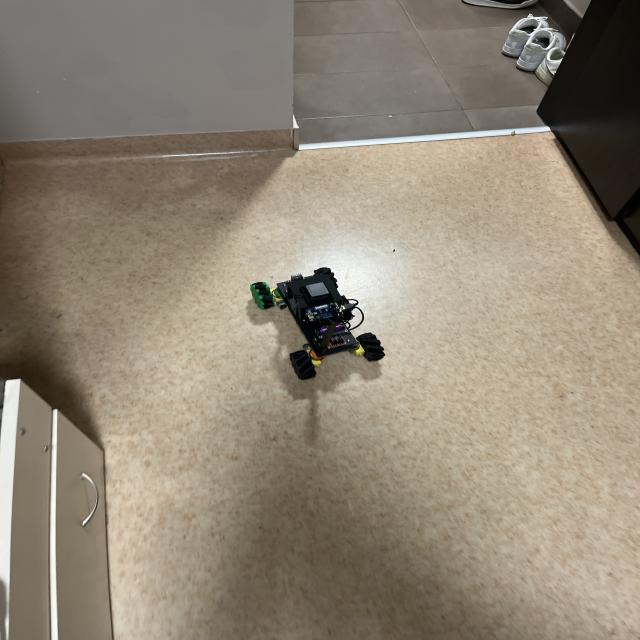robot: (250, 267, 385, 379)
